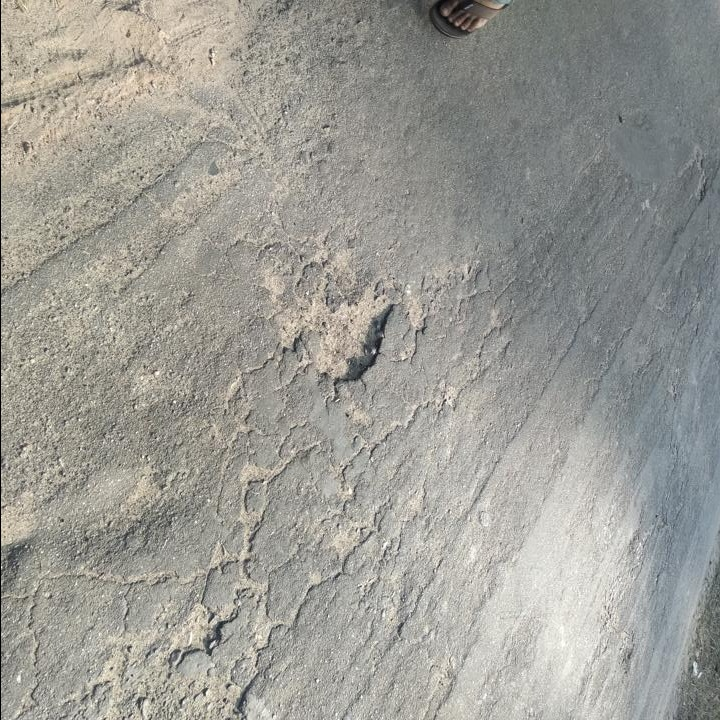pothole: (285, 276, 398, 385), (167, 601, 224, 661)
